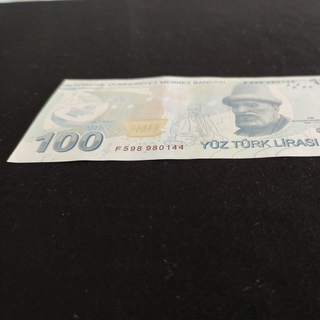100TLBack: (5, 73, 320, 164)
